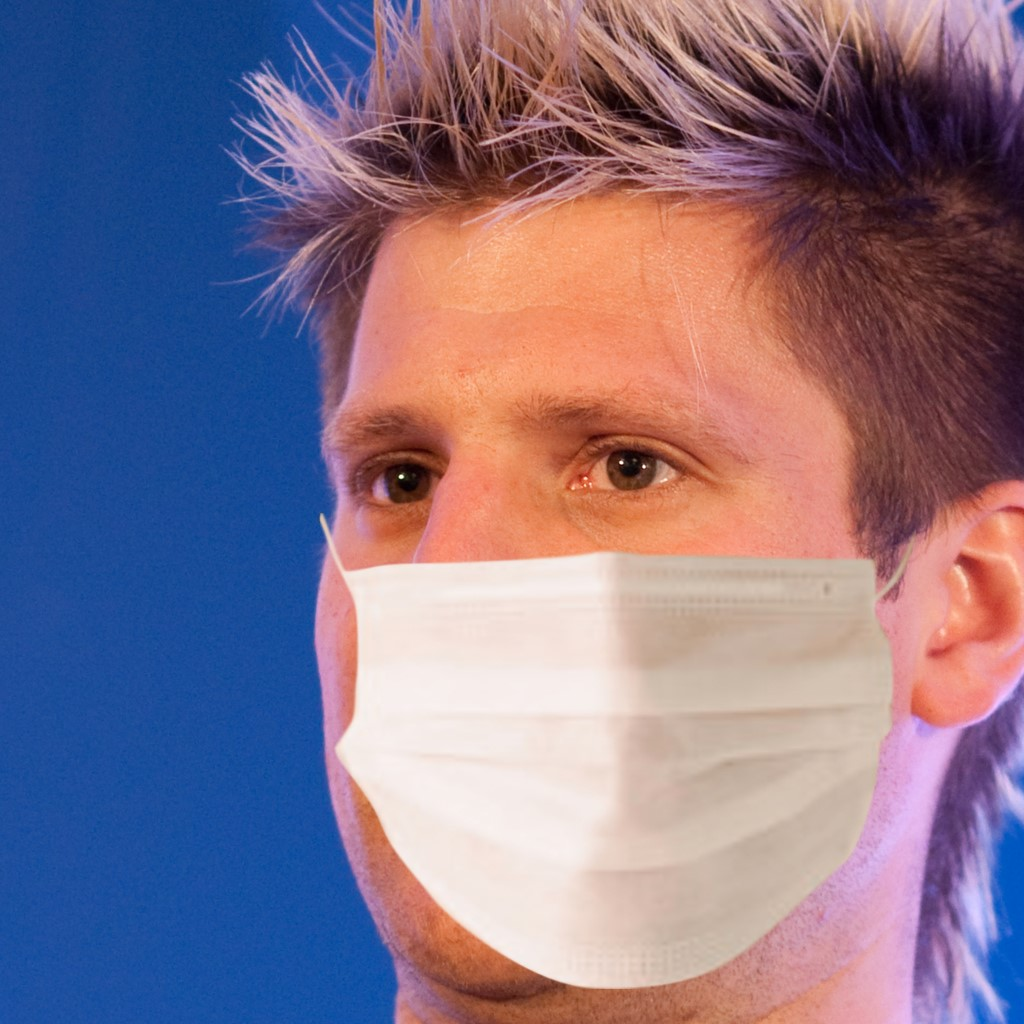con_mascara: (313, 140, 951, 975)
